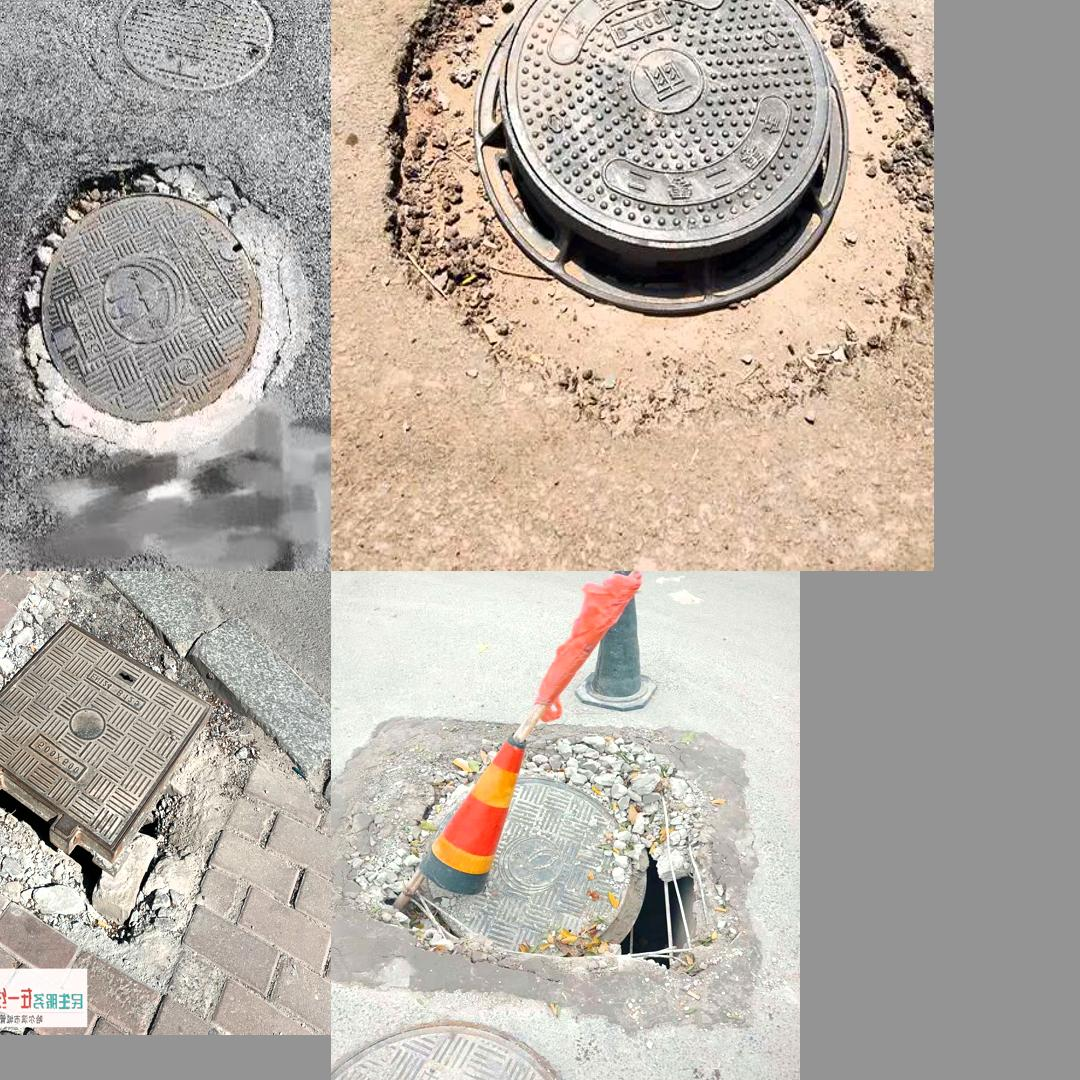circle: (391, 0, 923, 421), (17, 162, 306, 466), (0, 618, 258, 941), (400, 772, 700, 958)
good: (114, 0, 278, 92)
